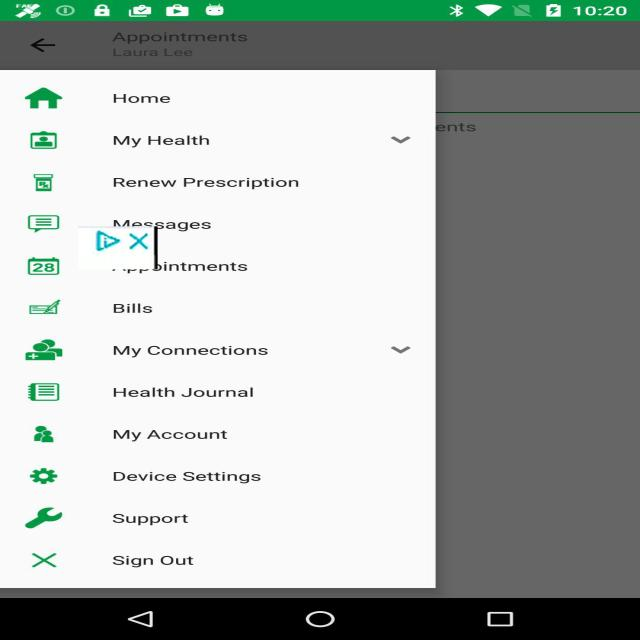sneaking: (78, 227, 158, 270)
